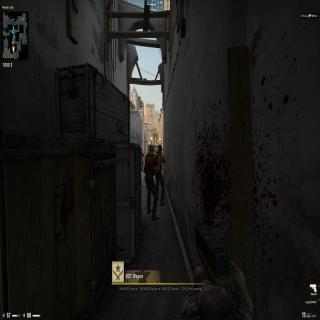T-Head: (149, 143, 155, 154), (158, 144, 163, 153), (141, 149, 143, 152)
